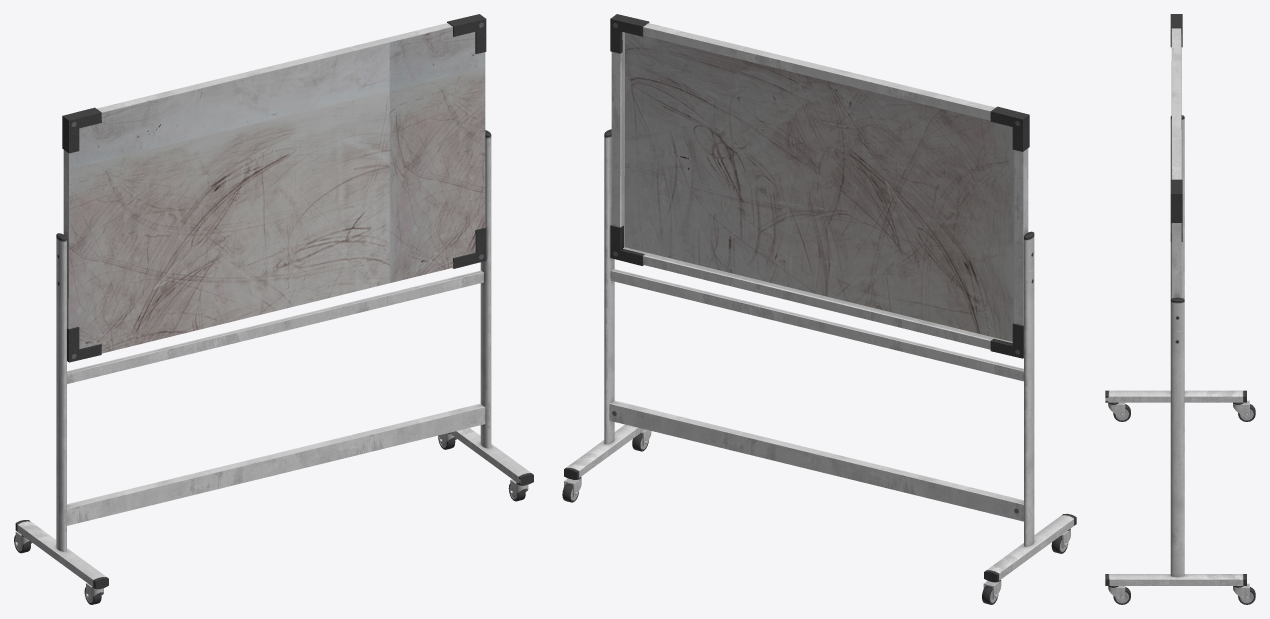
The model's file is SM_Board.fbx.
3 renders of one model, left to right at view 1: azimuth 30°, elevation 25°; view 2: azimuth 150°, elevation 25°; view 3: azimuth 270°, elevation 25°, orthographic. The views are drawn at different scales.
Parts seen in each view (by area): view 1: SM_Board_LOD0; view 2: SM_Board_LOD0; view 3: SM_Board_LOD0.
Boxes of the visible parts, x1=… form: SM_Board_LOD0: x1=14, y1=14, x2=533, y2=604; SM_Board_LOD0: x1=562, y1=14, x2=1076, y2=604; SM_Board_LOD0: x1=1105, y1=14, x2=1255, y2=604.
Bounding box in the file's own units: 241 × 81.21 × 243.
